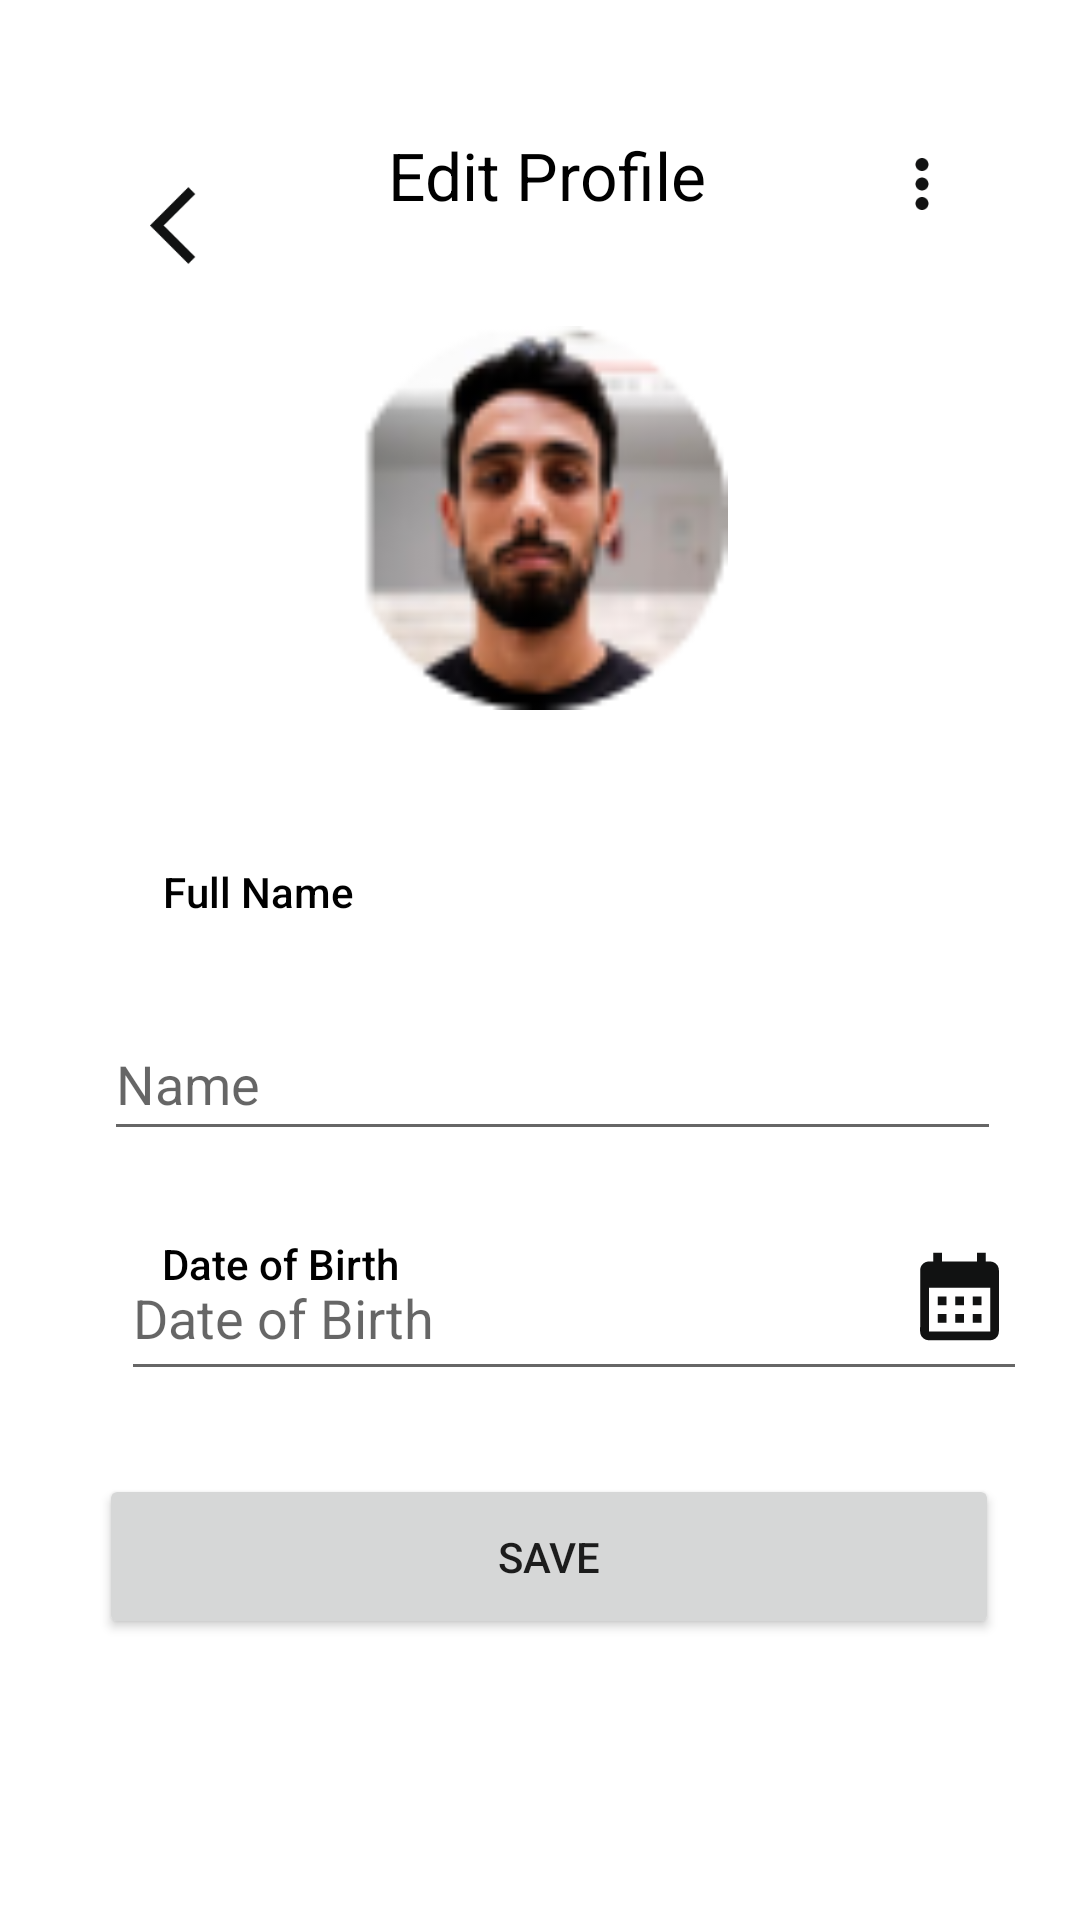

Icons on this 1080×1920 Android screen, each with the point to tap as [x,y]:
arrow back: [172,225]
calendar month: [959,1296]
more vert: [922,184]
